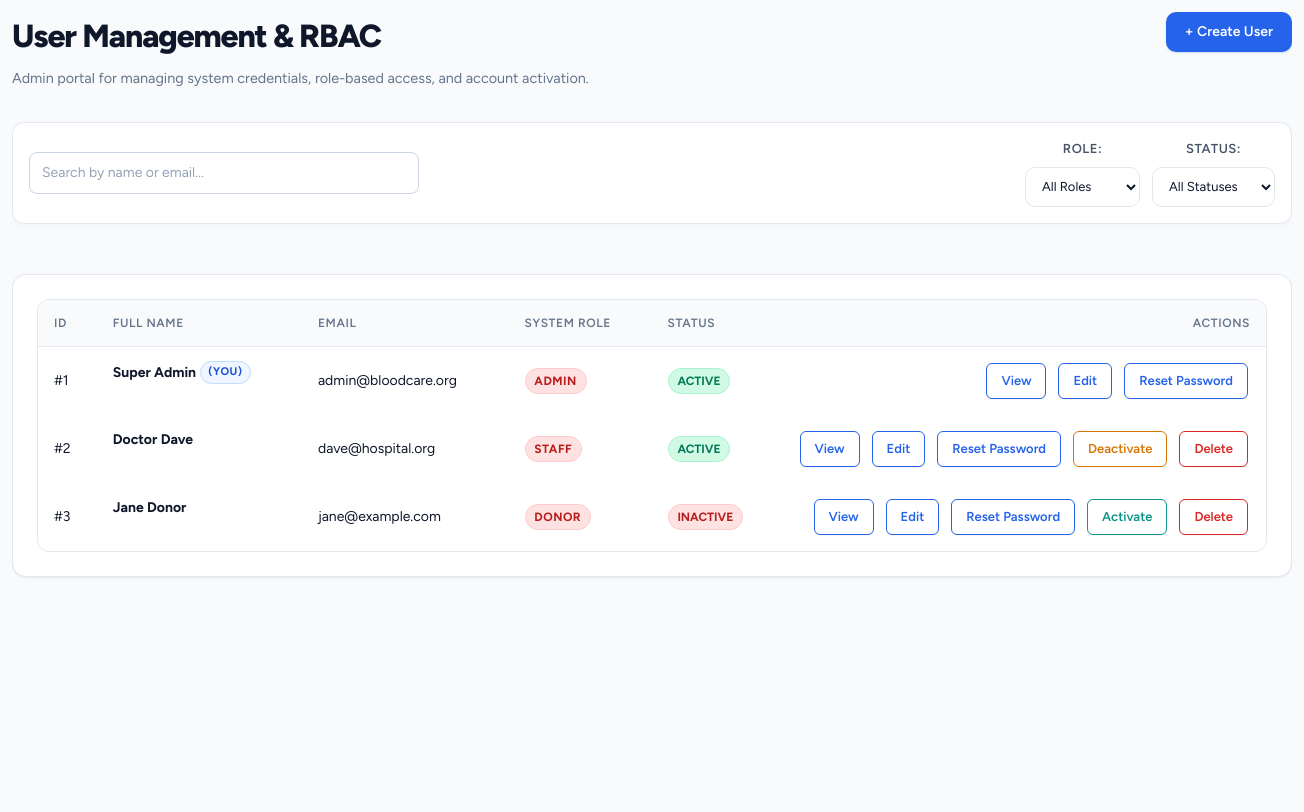
Test case: Users Page Component › renders empty state when no users match search filter
The image size is (1304, 812).
In the field with test id "input-user-search": (224, 173) [29,152,419,194], type "Nonexistent Person"
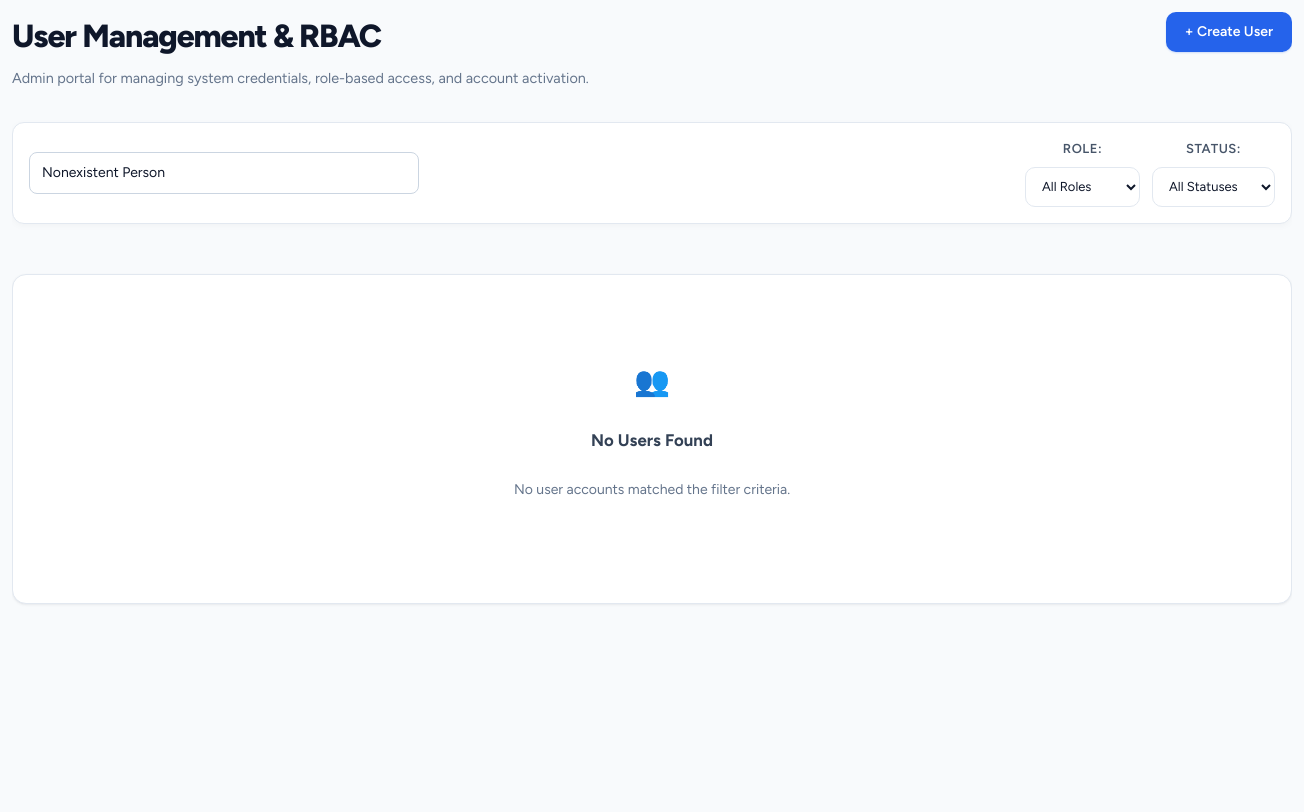
expect the element with test id "users-empty" is shown: met, box [514,364,790,498]
expect the heading "No Users Found" is shown: met, box [591,428,713,453]
